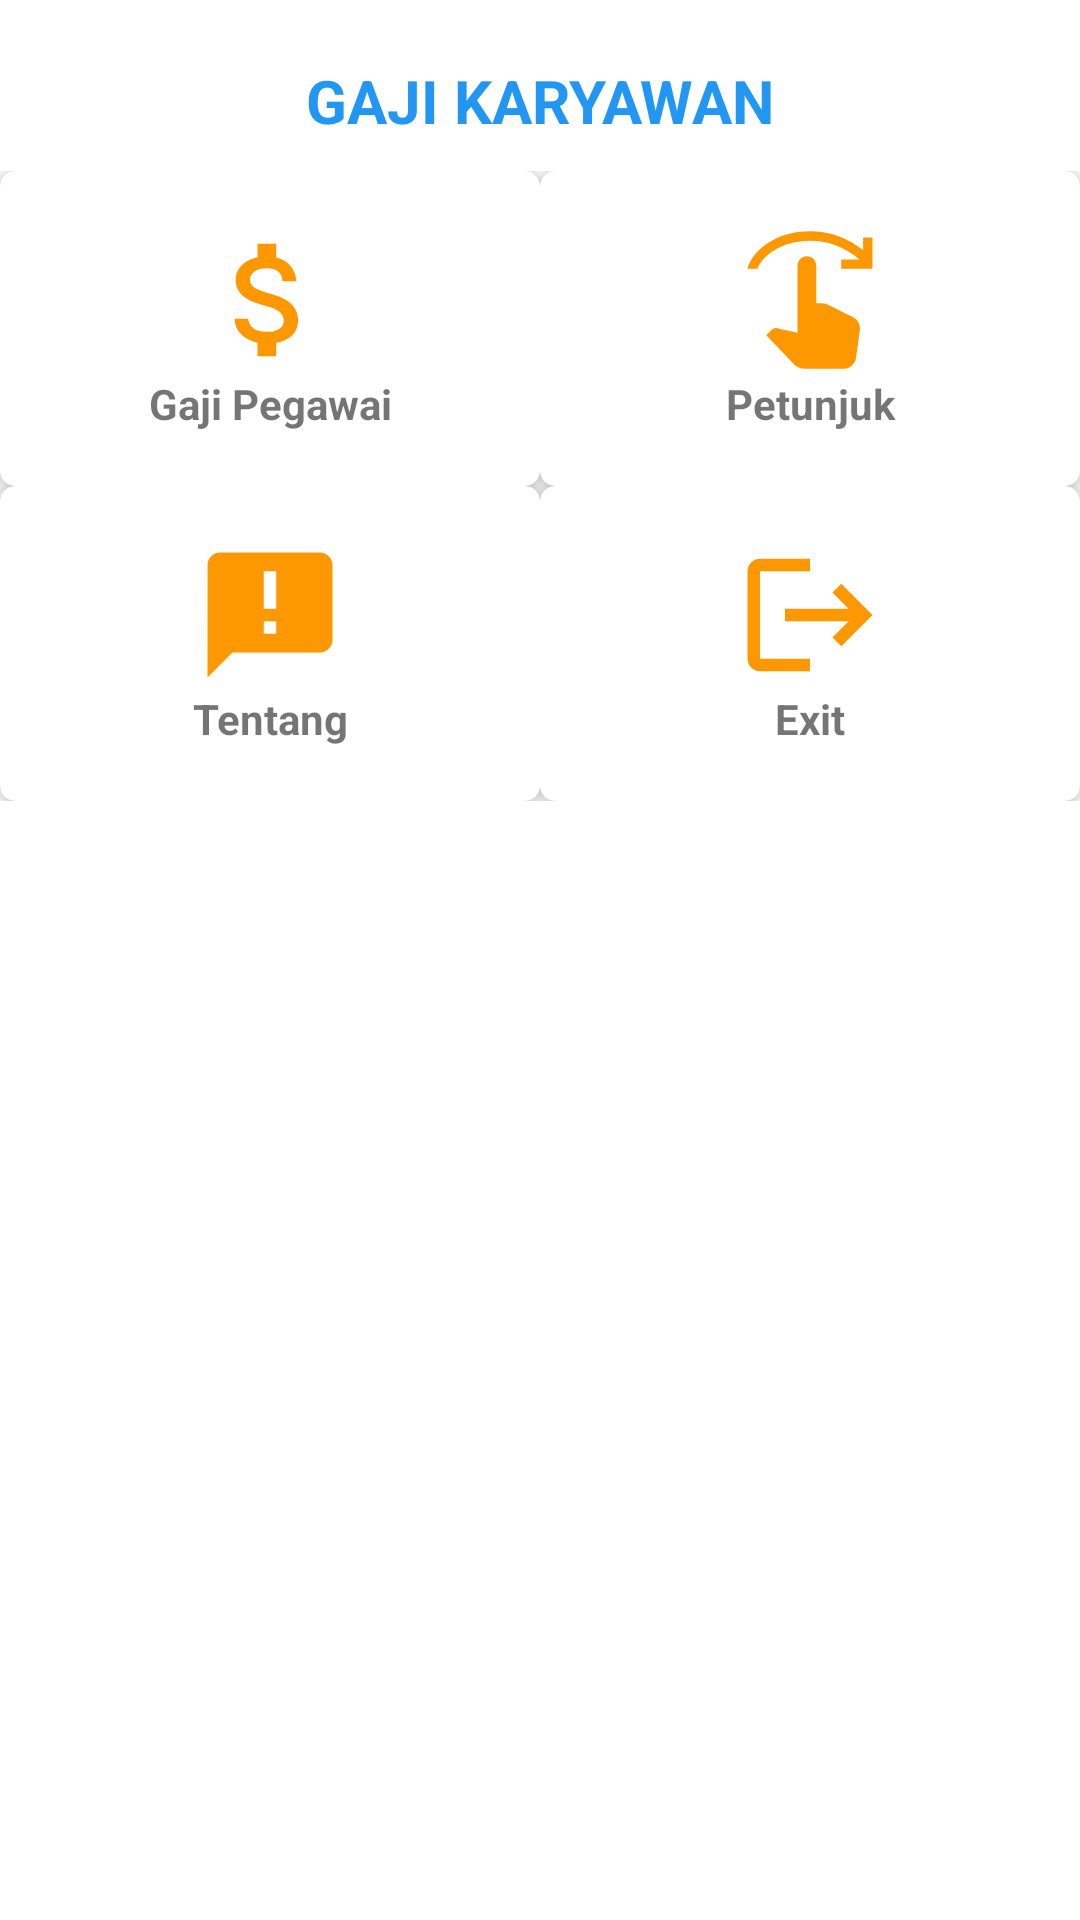

Where to tap for icons on this 1080px x 1920px app screen, as point (x, y):
announcement: point (270, 615)
attach money: point (266, 300)
swipe right: point (810, 300)
